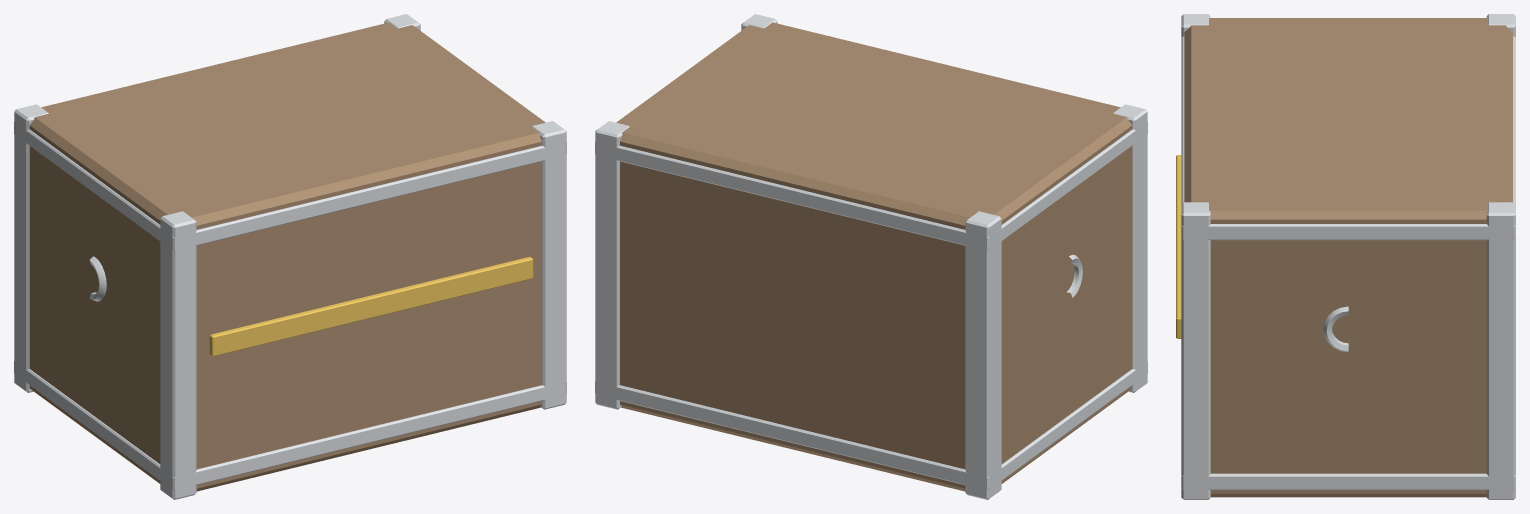
File: submarine-interior-and-control-room-stores-crate-929e4a94__36511.glb
The picture shows the model from 3 angles, left to right: view 1: azimuth 30°, elevation 25°; view 2: azimuth 150°, elevation 25°; view 3: azimuth 270°, elevation 25°; orthographic projection. The views are drawn at different scales.
Visible parts, largest first — view 1: stores-crate; view 2: stores-crate; view 3: stores-crate.
Boxes of the visible parts, box(x1,y1,x2,y2) form: stores-crate: box(14, 14, 566, 499); stores-crate: box(595, 14, 1147, 499); stores-crate: box(1176, 14, 1515, 499).
Bounding box in the file's own units: 0.8252 × 0.5412 × 0.579.
